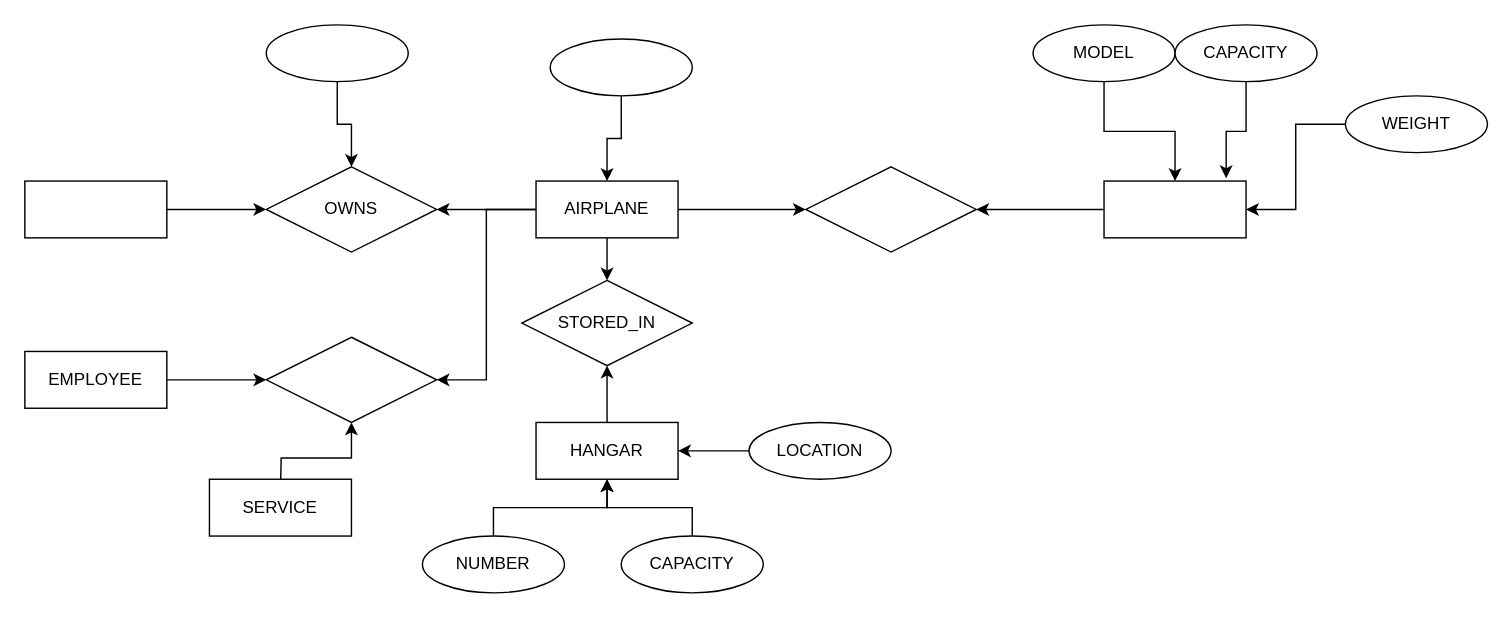
Some shapes in this 1512 by 618 pixel diagram are drawn without their labels. The centre of each missing label's shape, as x and y in pixels:
MAINTAIN: (x=351, y=379)
OF_TYPE: (x=890, y=208)
OWNER: (x=95, y=209)
PDATE: (x=336, y=52)
PLANE_TYPE: (x=1174, y=209)
REG#: (x=620, y=67)
